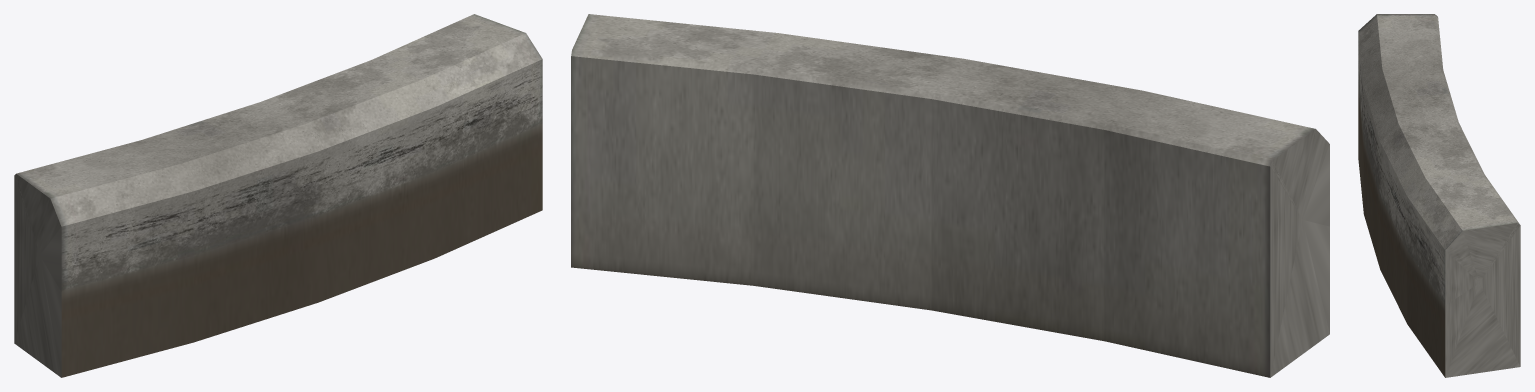
File: curb_curve_r3_lod1_web.glb
The picture shows the model from 3 angles, left to right: view 1: azimuth 30°, elevation 25°; view 2: azimuth 150°, elevation 25°; view 3: azimuth 270°, elevation 25°; orthographic projection. The views are drawn at different scales.
Parts seen in each view (by area): view 1: curb_curve_r3_Mesh; view 2: curb_curve_r3_Mesh; view 3: curb_curve_r3_Mesh.
Boxes of the visible parts, x1=… form: curb_curve_r3_Mesh: x1=14, y1=14, x2=542, y2=377; curb_curve_r3_Mesh: x1=571, y1=14, x2=1329, y2=377; curb_curve_r3_Mesh: x1=1358, y1=14, x2=1520, y2=377.
Size of the model in its own units: 0.9769 by 0.3 by 0.3053.
1 material, 1 textured.
